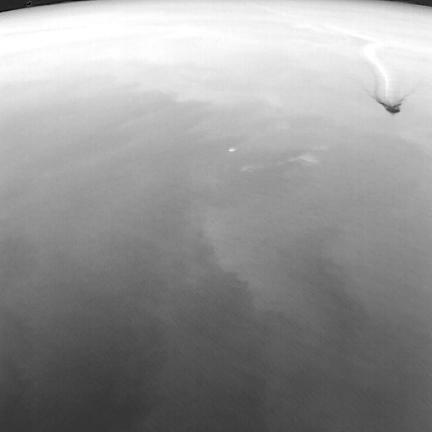flukeprints: (241, 164, 263, 171), (300, 153, 315, 163), (313, 146, 327, 150), (289, 157, 297, 162), (229, 148, 235, 151)
